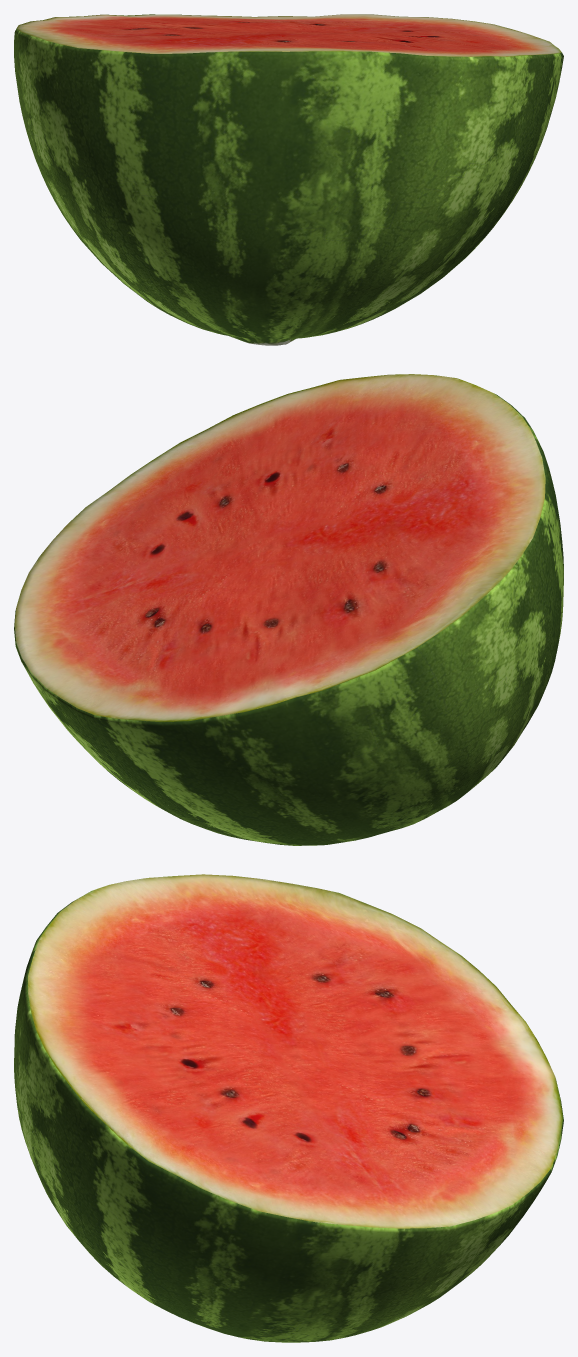
The model's file is watermelon.glb.
3 renders of one model, top to bottom at view 1: azimuth 30°, elevation 25°; view 2: azimuth 150°, elevation 25°; view 3: azimuth 270°, elevation 25°, orthographic. The views are drawn at different scales.
Parts seen in each view (by area): view 1: melon_half; view 2: melon_half; view 3: melon_half.
Boxes of the visible parts, x1,y1,x2,y2 form: melon_half: (14,14,563,345); melon_half: (14,374,563,845); melon_half: (14,874,563,1342).
Size of the model in its own units: 0.7224 by 0.5242 by 0.7117.
Materials: 2 (2 with a texture image).
